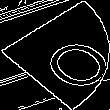O_NW: (8, 21, 102, 89)
